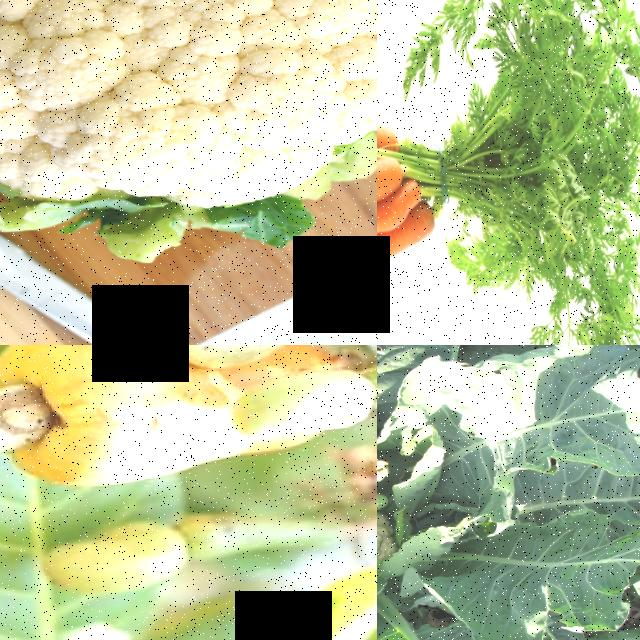carrot: (377, 253, 435, 343)
cashew: (224, 380, 377, 478), (159, 345, 312, 396), (0, 367, 52, 480)
cauliflower: (0, 0, 377, 315), (377, 471, 439, 640)
